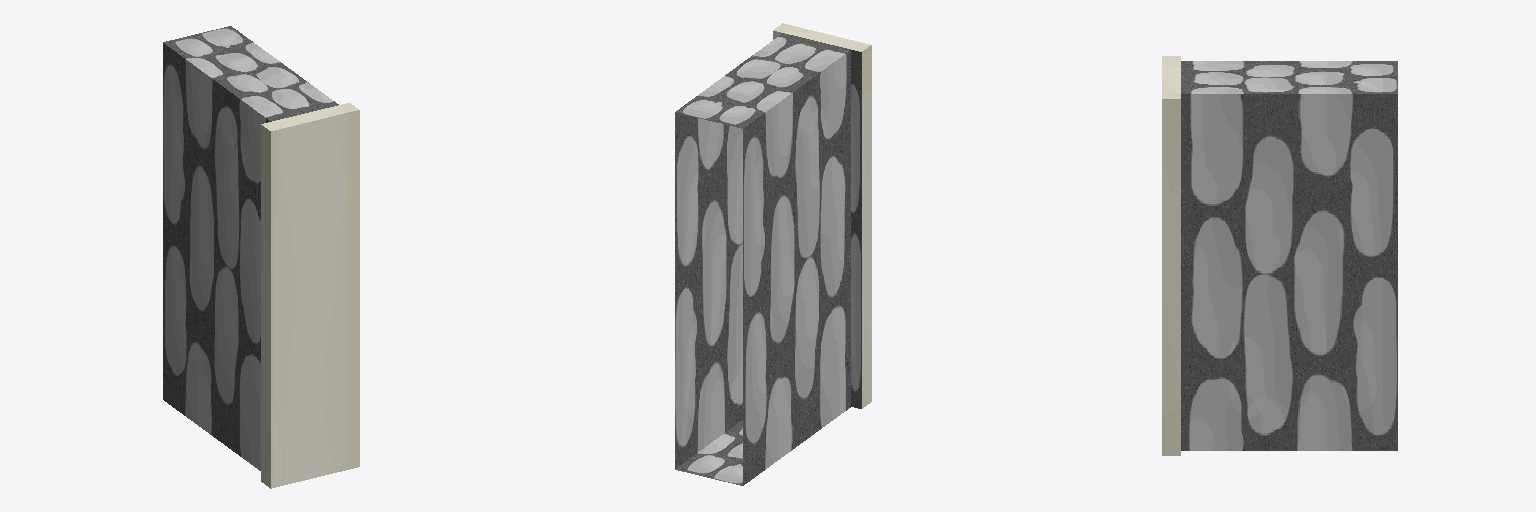
3 renders of one model, left to right at view 1: azimuth 30°, elevation 25°; view 2: azimuth 150°, elevation 25°; view 3: azimuth 270°, elevation 25°, orthographic.
Visible parts, largest first — view 1: Cube; view 2: Cube; view 3: Cube.
Boxes of the visible parts, x1=… form: Cube: x1=163, y1=26, x2=359, y2=488; Cube: x1=675, y1=23, x2=871, y2=485; Cube: x1=1162, y1=56, x2=1397, y2=455.
Bounding box in the file's own units: 0.52 × 2 × 1.2.
Materials: 1 (1 with a texture image).